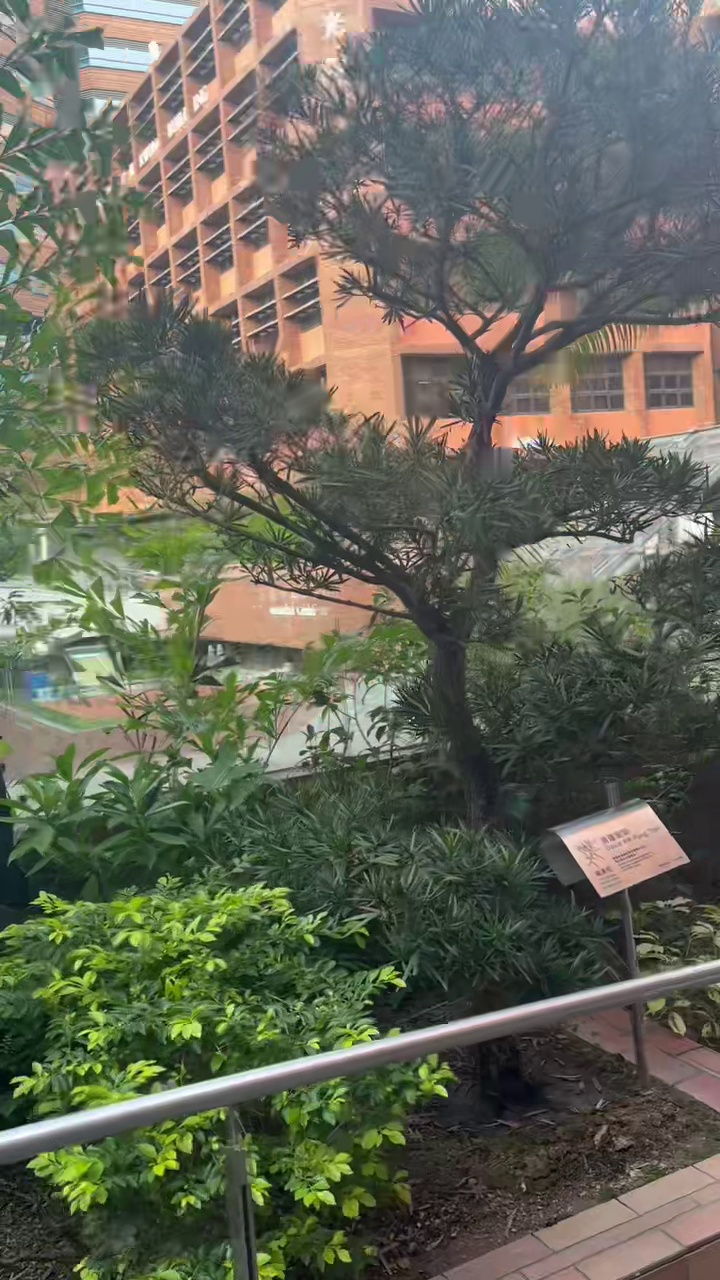Podocarpus macrophyllus: (76, 0, 719, 826)
